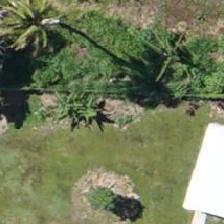Kelapa_Sawit: (0, 0, 78, 75)
